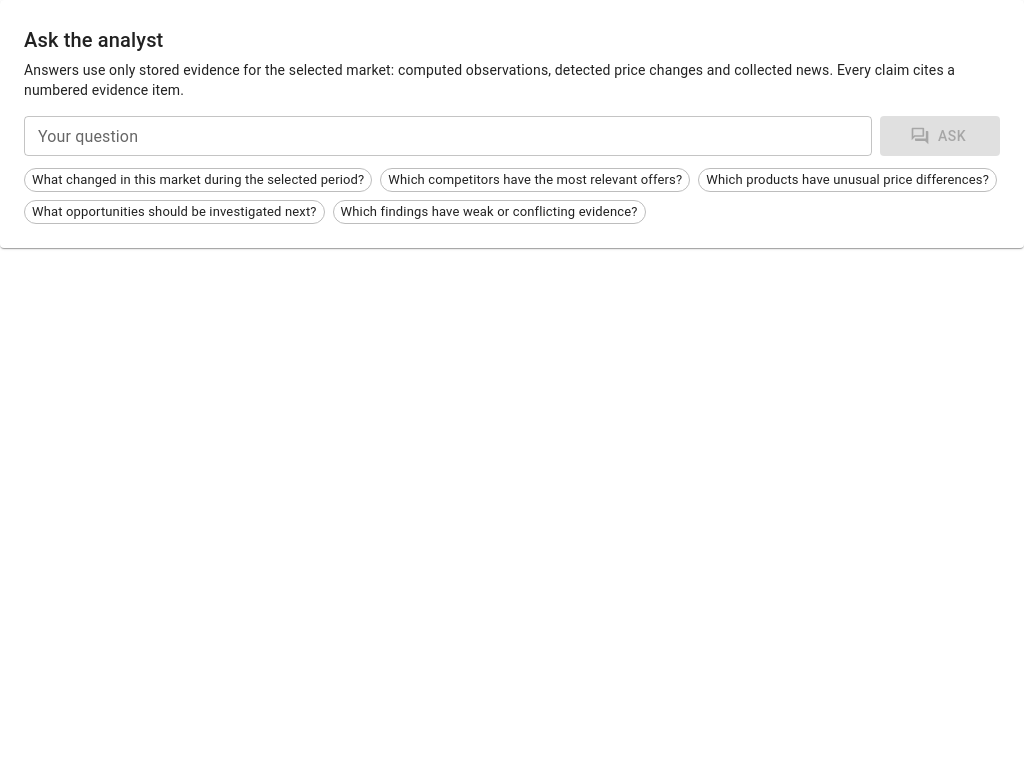
AskAnalyst › renders an assisted answer with clickable citations
The image size is (1024, 768).
Click the button "Which products have unusual price differences?". click: (848, 180)
box: [698,168,997,192]
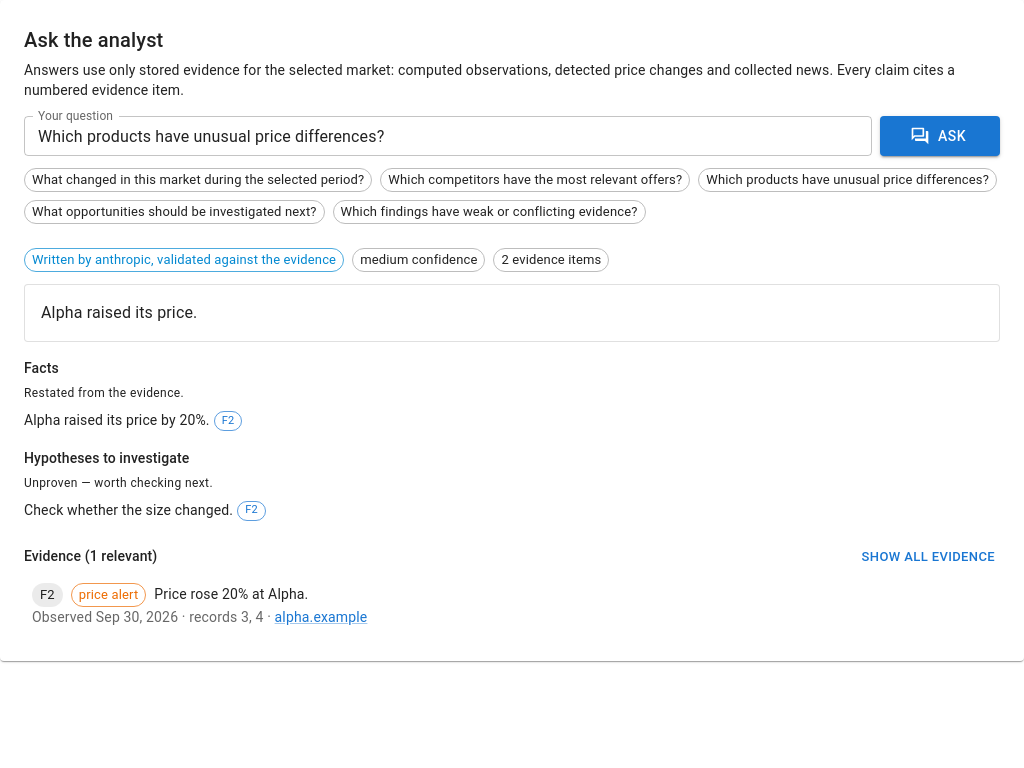
Check: the text "Alpha raised its price." is shown, box [41,303,197,322]
Check: the heading "Hypotheses to investigate" is shown, box [24,450,189,466]
